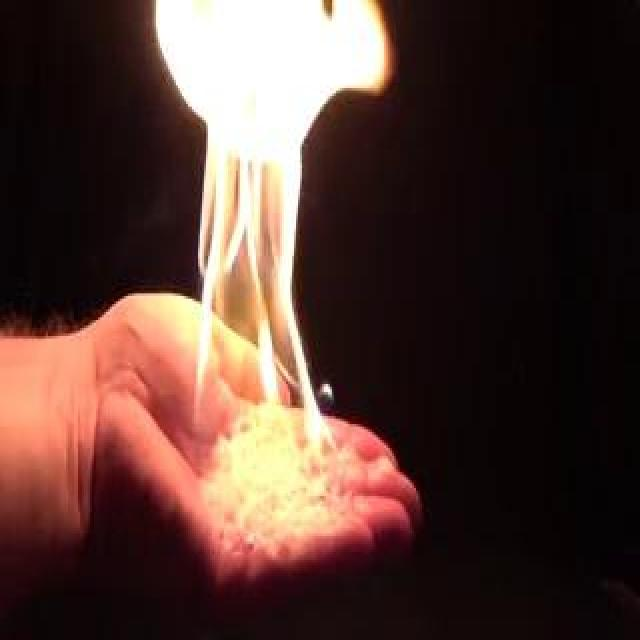Fire: (148, 3, 346, 488)
